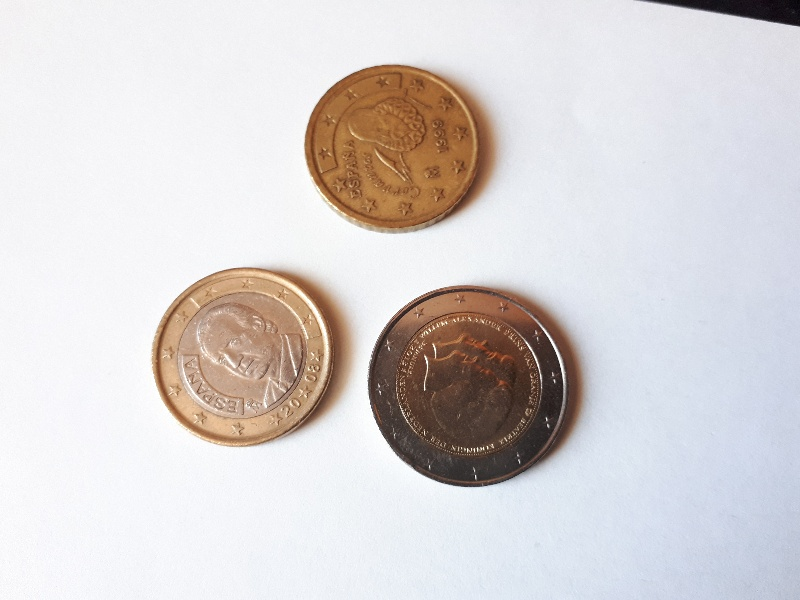1 euro: (142, 264, 340, 454)
2 euro: (365, 282, 574, 491)
50 cent: (298, 63, 484, 235)
